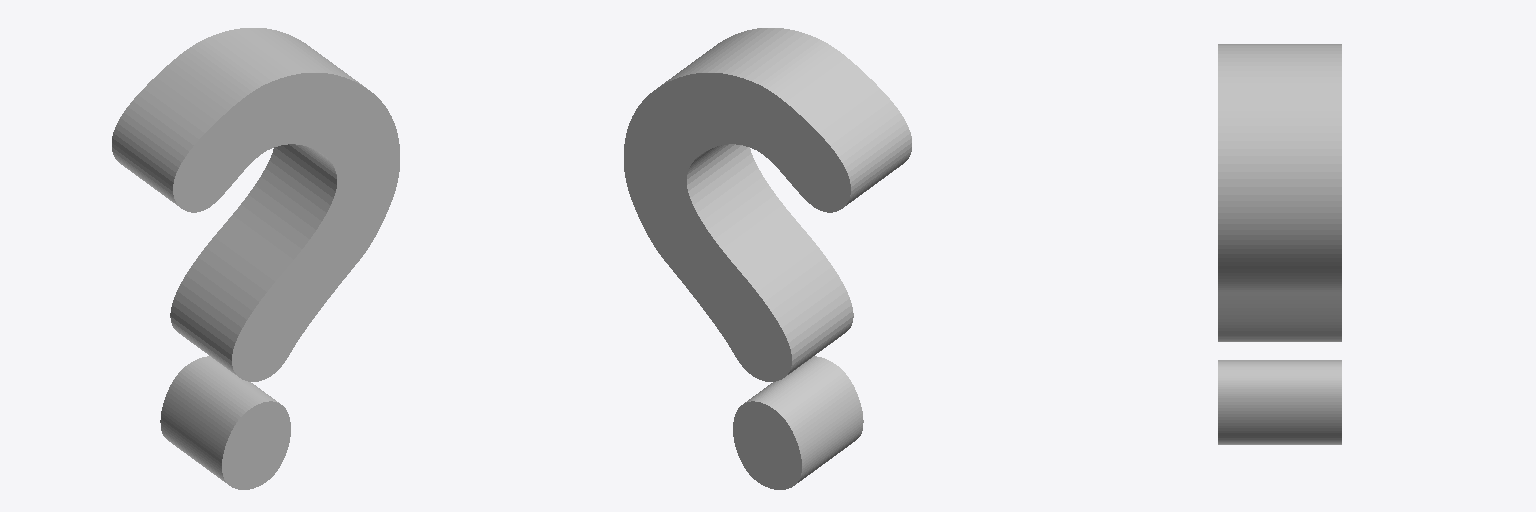
Rendered from Hatena.obj.
3 renders of one model, left to right at view 1: azimuth 30°, elevation 25°; view 2: azimuth 150°, elevation 25°; view 3: azimuth 270°, elevation 25°, orthographic.
Parts seen in each view (by area): view 1: テキスト; view 2: テキスト; view 3: テキスト.
Part boxes in pixels (bbox=[...]): テキスト: bbox=[112, 28, 399, 489]; テキスト: bbox=[624, 28, 911, 489]; テキスト: bbox=[1218, 44, 1341, 444].
Bounding box in the file's own units: 0.4043 × 0.6862 × 0.1894.